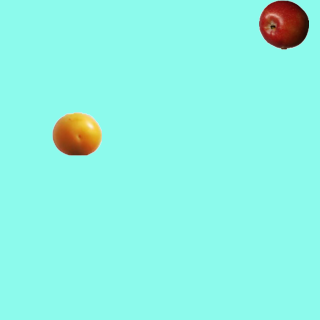Apple Braeburn: (258, 0, 308, 49)
Cherry Wax Yellow: (51, 108, 101, 158)
